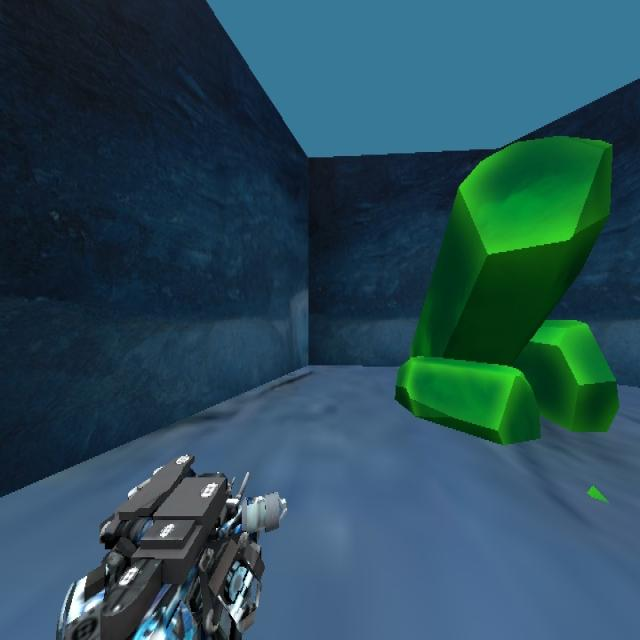Diamon: (394, 134, 618, 446)
